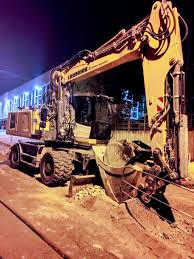excavator: (5, 3, 189, 196)
